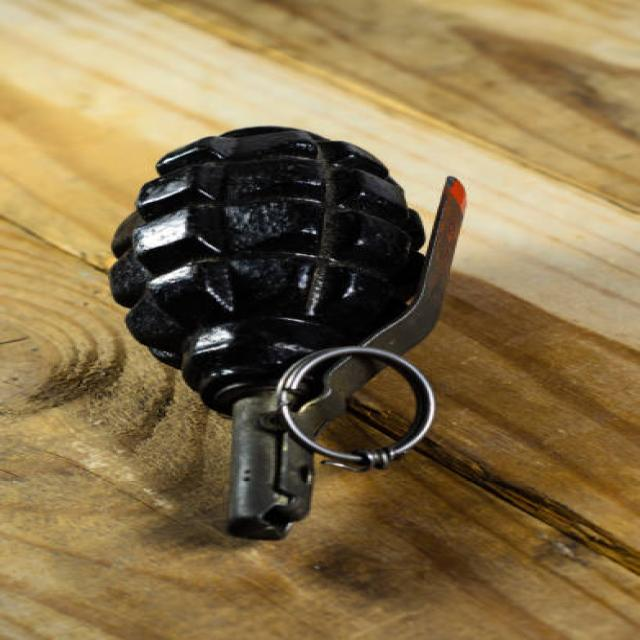grenade: (111, 118, 479, 545)
